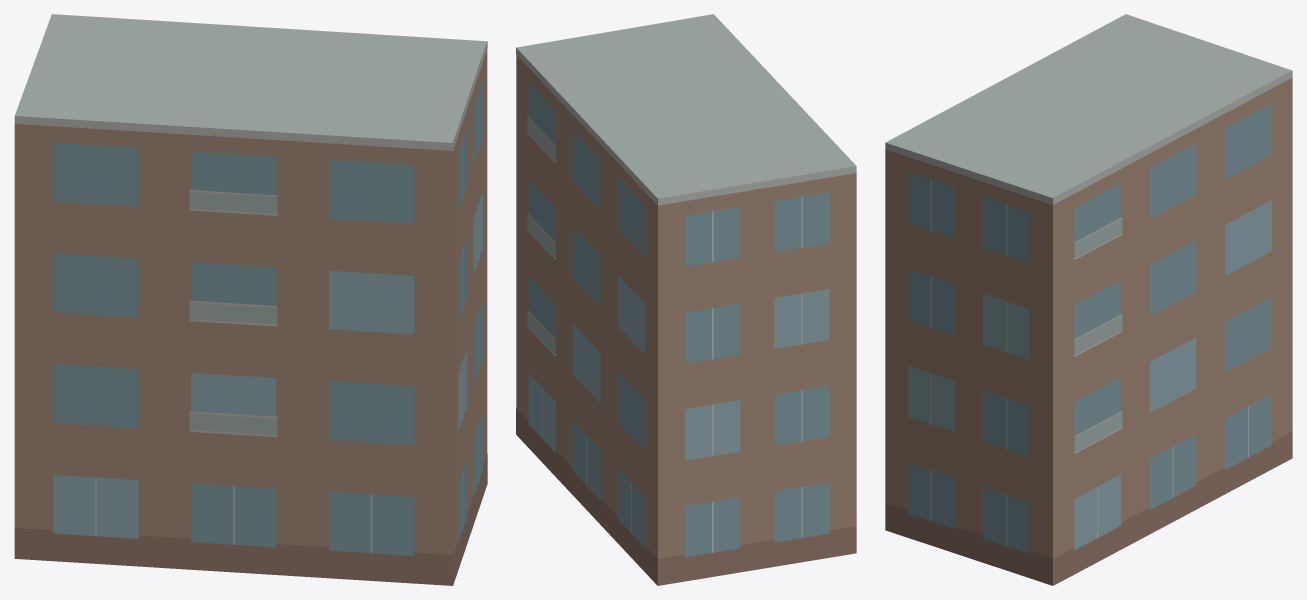
The model's file is survey-upis-32657258.glb.
The picture shows the model from 3 angles, left to right: view 1: azimuth 30°, elevation 25°; view 2: azimuth 150°, elevation 25°; view 3: azimuth 270°, elevation 25°; orthographic projection. The views are drawn at different scales.
Parts seen in each view (by area): view 1: survey-upis-32657258.tmp; view 2: survey-upis-32657258.tmp; view 3: survey-upis-32657258.tmp.
Boxes of the visible parts, x1,y1,x2,y2 form: survey-upis-32657258.tmp: (14,14,487,585); survey-upis-32657258.tmp: (516,14,856,585); survey-upis-32657258.tmp: (885,14,1292,585).
Size of the model in its own units: 13.95 by 13.68 by 13.03.
